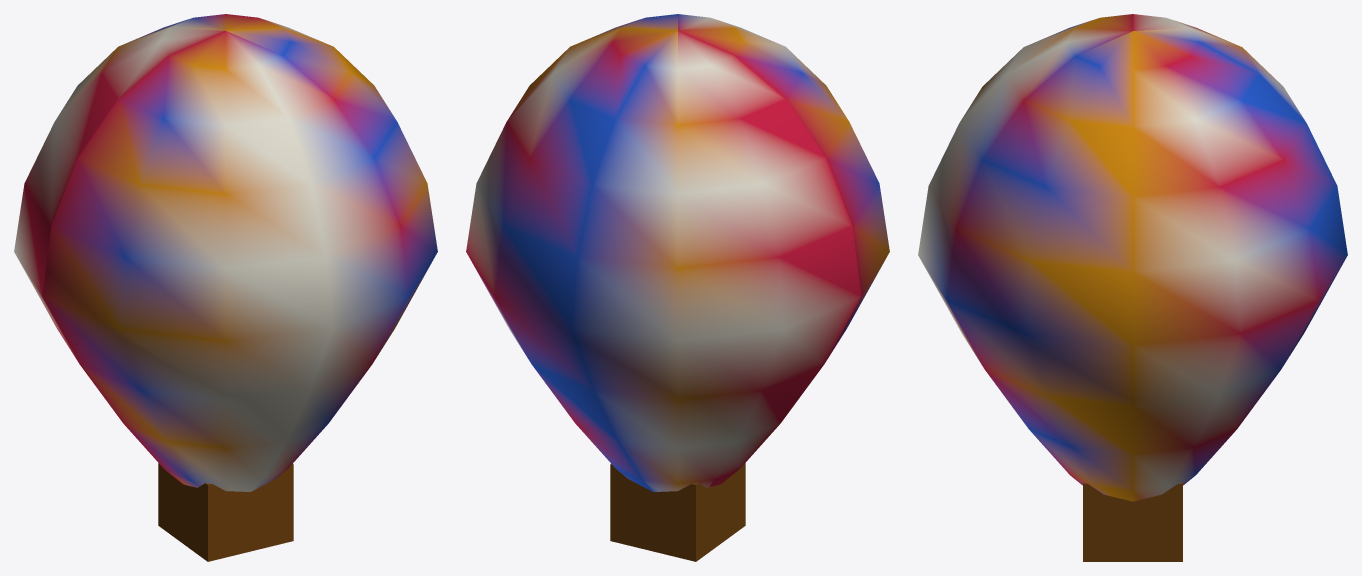
File: hot_air_balloon.glb
3 renders of one model, left to right at view 1: azimuth 30°, elevation 25°; view 2: azimuth 150°, elevation 25°; view 3: azimuth 270°, elevation 25°, orthographic.
Visible parts, largest first — view 1: HotAirBalloonMesh; view 2: HotAirBalloonMesh; view 3: HotAirBalloonMesh.
Part boxes in pixels (<box>): HotAirBalloonMesh: <box>14,14,437,561</box>; HotAirBalloonMesh: <box>466,14,889,561</box>; HotAirBalloonMesh: <box>918,14,1347,561</box>.
Bounding box in the file's own units: 3 × 3.92 × 3.
